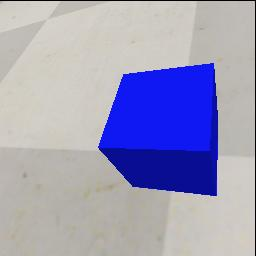box: (98, 62, 219, 196)
